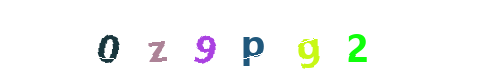0: (137, 0, 217, 80)
2: (317, 0, 397, 80)
9: (166, 0, 246, 80)
G: (269, 0, 349, 80)
P: (205, 0, 285, 80)
Z: (144, 0, 224, 80)
